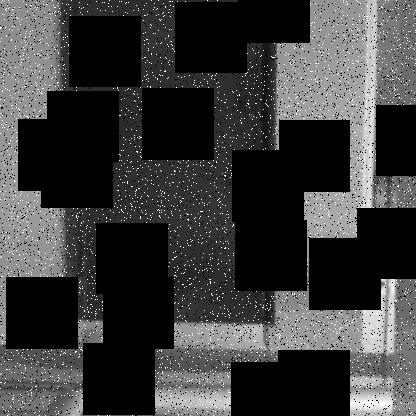Porte: (61, 1, 277, 326)
